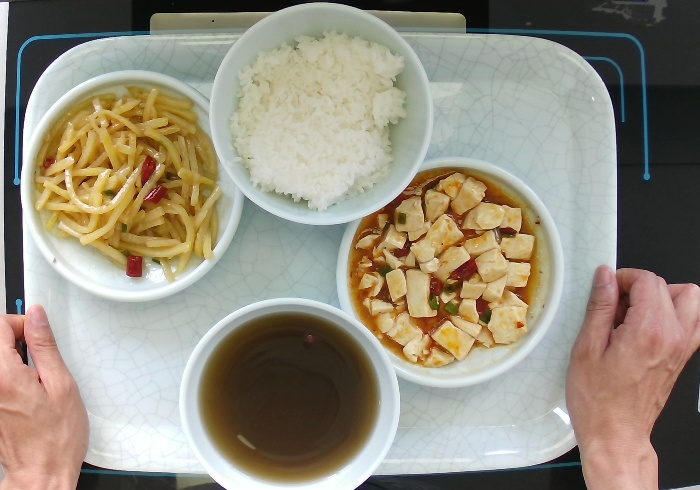JYsf-Fan_Wan: (207, 1, 437, 226), (176, 294, 404, 490)
JYsf-Xiao_Yuan_Pan: (333, 154, 565, 389), (19, 67, 247, 302)
